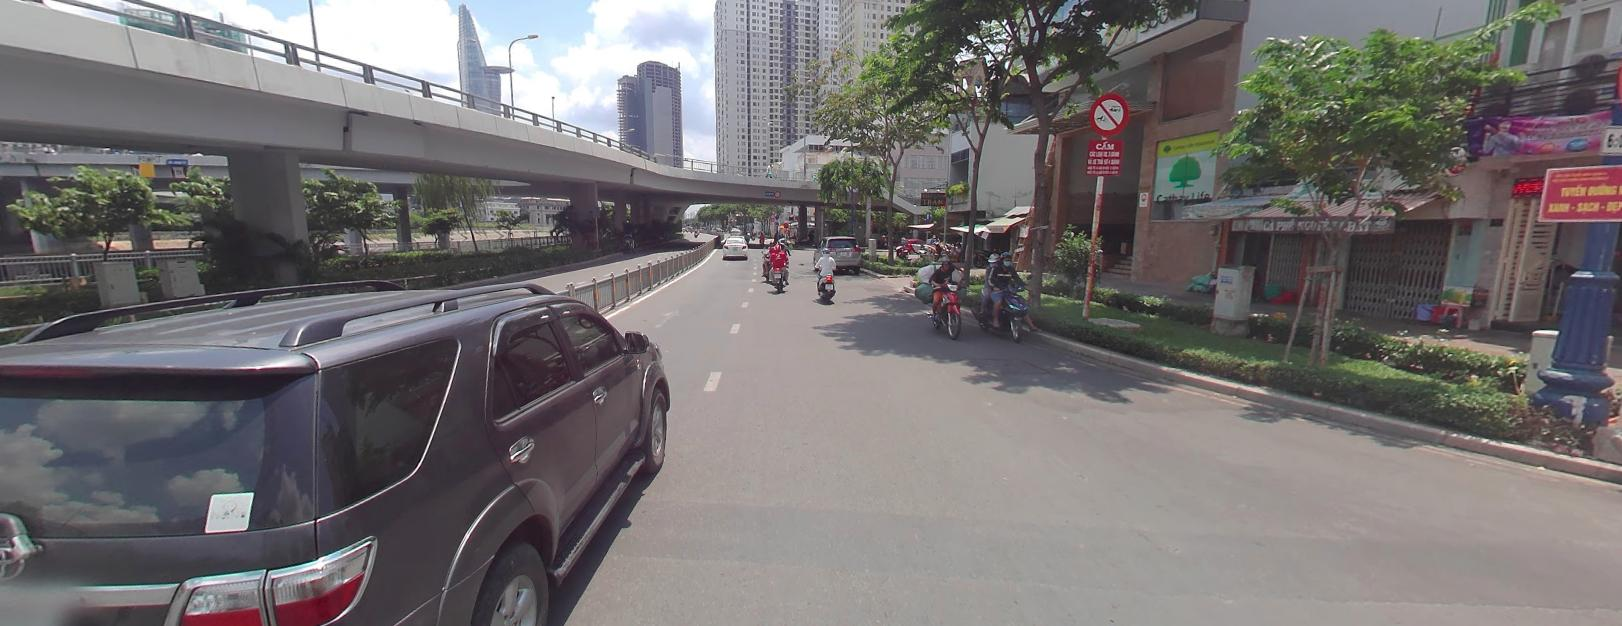Cam con lai: (1089, 92, 1128, 135), (774, 189, 780, 196)
